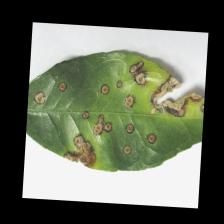canker: (32, 57, 204, 172)
